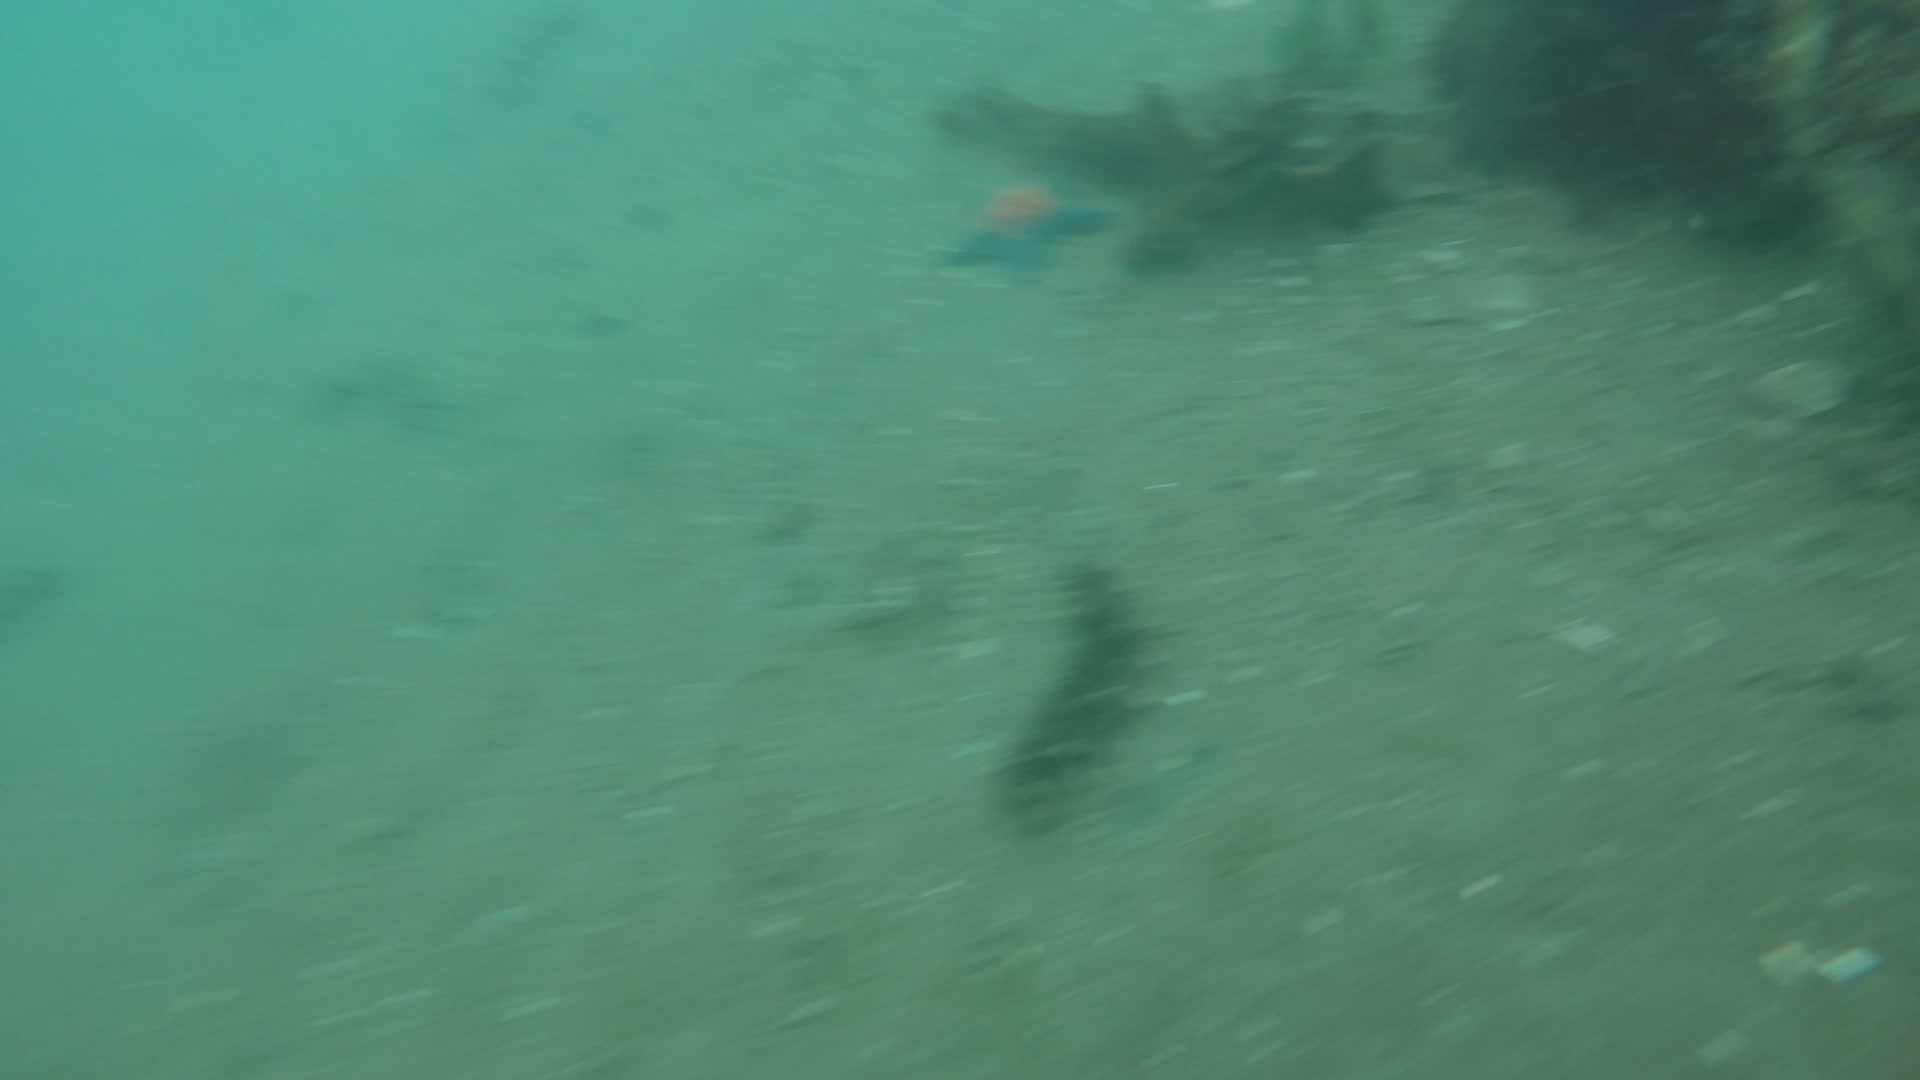holothurian: (980, 555, 1166, 835)
starfish: (940, 167, 1113, 284)
